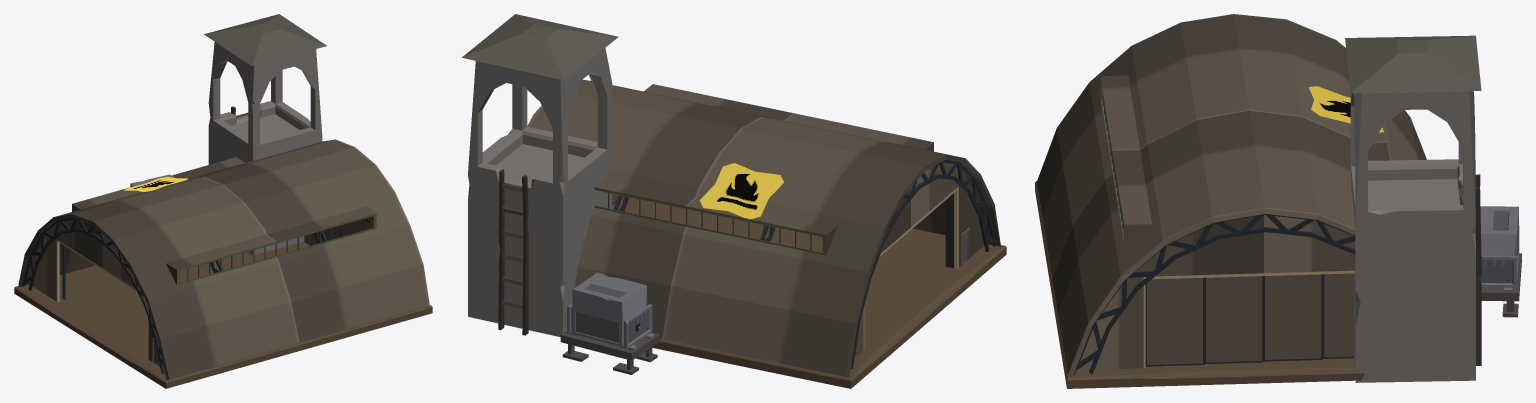
The model's file is Chekuv2.fbx.
3 renders of one model, left to right at view 1: azimuth 30°, elevation 25°; view 2: azimuth 150°, elevation 25°; view 3: azimuth 270°, elevation 25°, orthographic. The views are drawn at different scales.
Visible parts, largest first — view 1: Cheku1; view 2: Cheku1; view 3: Cheku1.
Part boxes in pixels (x1=…): Cheku1: x1=14, y1=14, x2=432, y2=388; Cheku1: x1=462, y1=14, x2=1006, y2=388; Cheku1: x1=1035, y1=14, x2=1521, y2=388.
Bounding box in the file's own units: 279 × 194 × 274.
